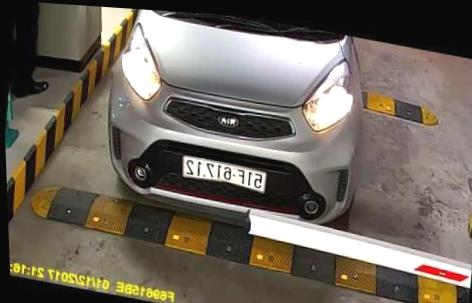License_Plate: (177, 157, 272, 191)
